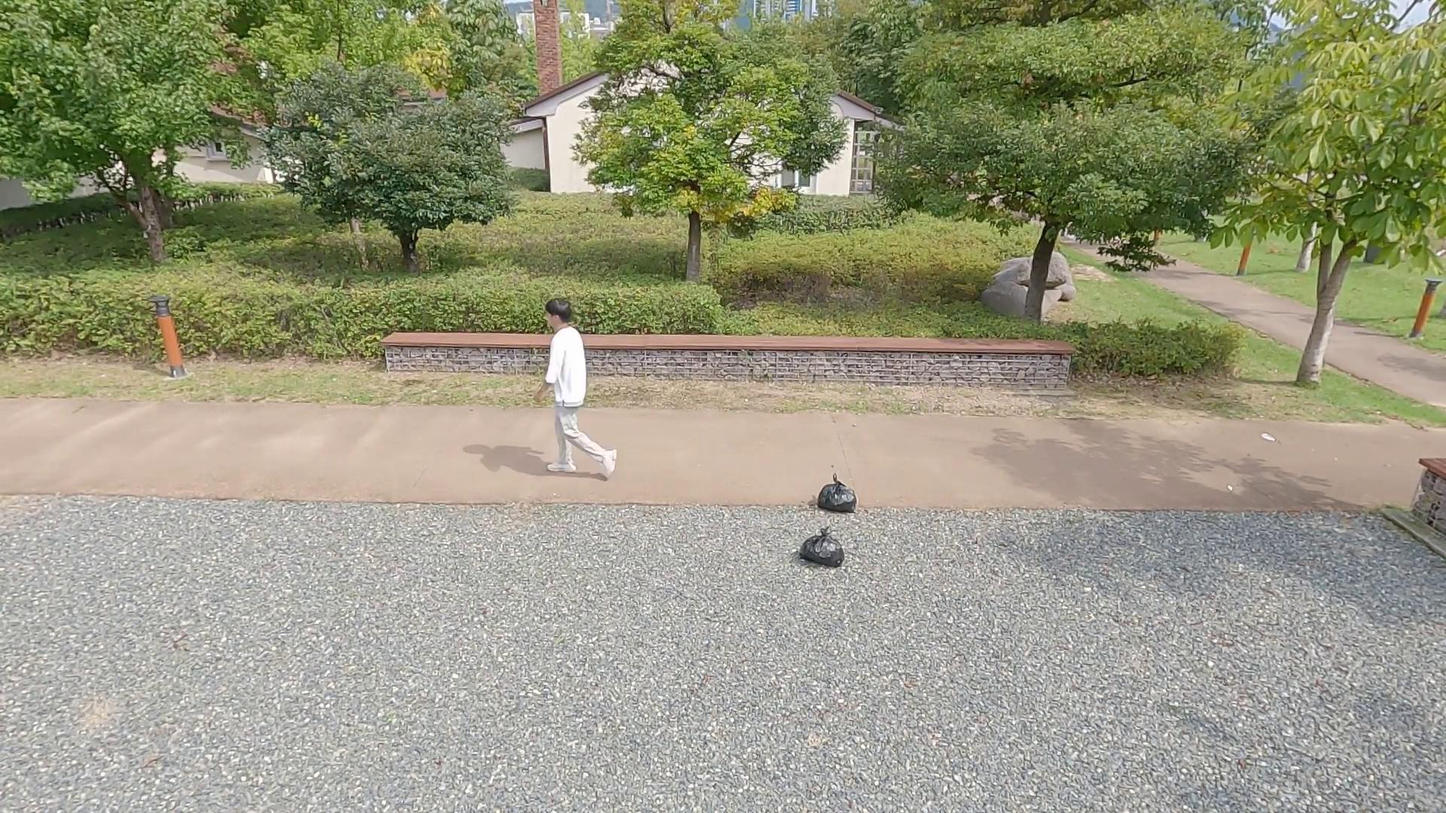person: (528, 293, 623, 478)
trash: (797, 525, 845, 574), (817, 469, 860, 517)
